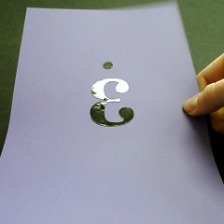violet3: (80, 59, 143, 135)
